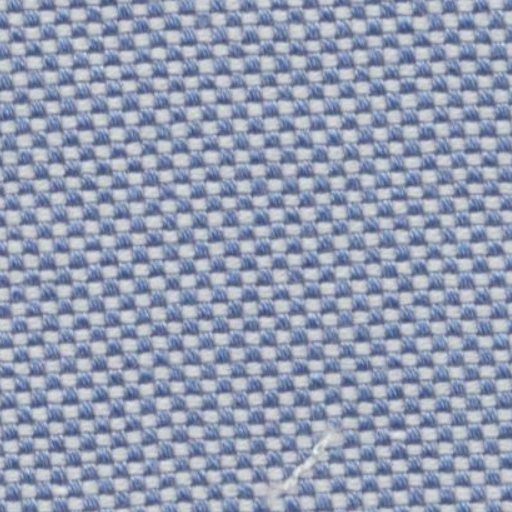DuanSha: (268, 419, 348, 494)
